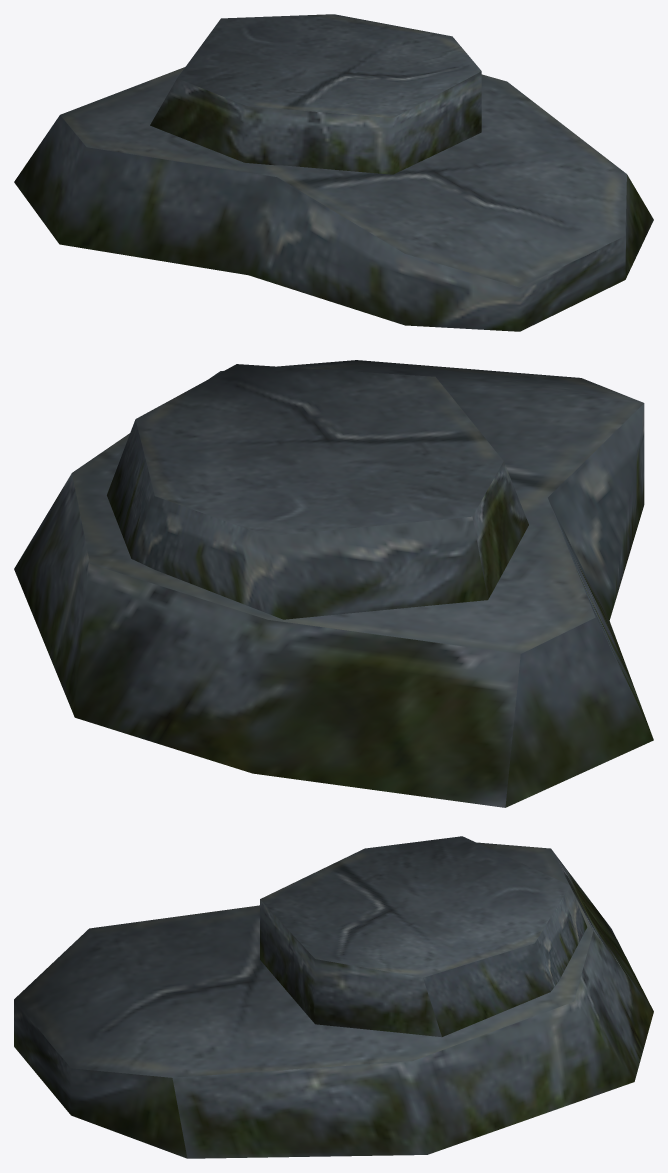
The model's file is C_shitou005.fbx.
3 renders of one model, top to bottom at view 1: azimuth 30°, elevation 25°; view 2: azimuth 150°, elevation 25°; view 3: azimuth 270°, elevation 25°, orthographic. The views are drawn at different scales.
Parts seen in each view (by area): view 1: C_shitou005; view 2: C_shitou005; view 3: C_shitou005.
Boxes of the visible parts, left/top/right/bottom form: C_shitou005: left=14, top=14, right=653, bottom=331; C_shitou005: left=14, top=360, right=653, bottom=807; C_shitou005: left=14, top=836, right=653, bottom=1158.
Size of the model in its own units: 81.77 by 21.92 by 90.08.
